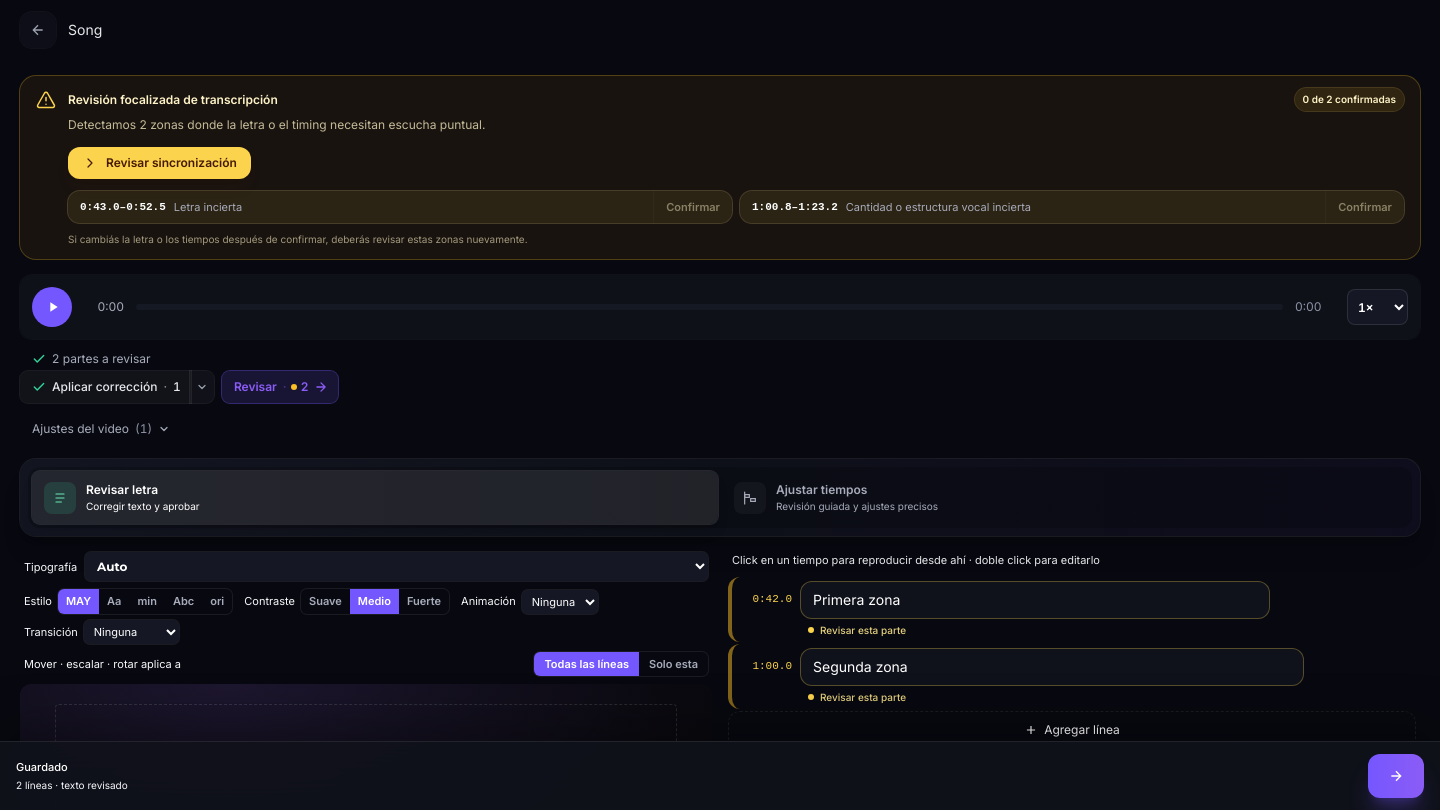
LyricsEditor — revisión focalizada transcription quality v5 › abre Ajustar tiempos en revisión guiada y deja la timeline como opción avanzada
This screenshot has width=1440, height=810.
Click the button "Revisar sincronización" at (159, 162), box [68,146,251,178]
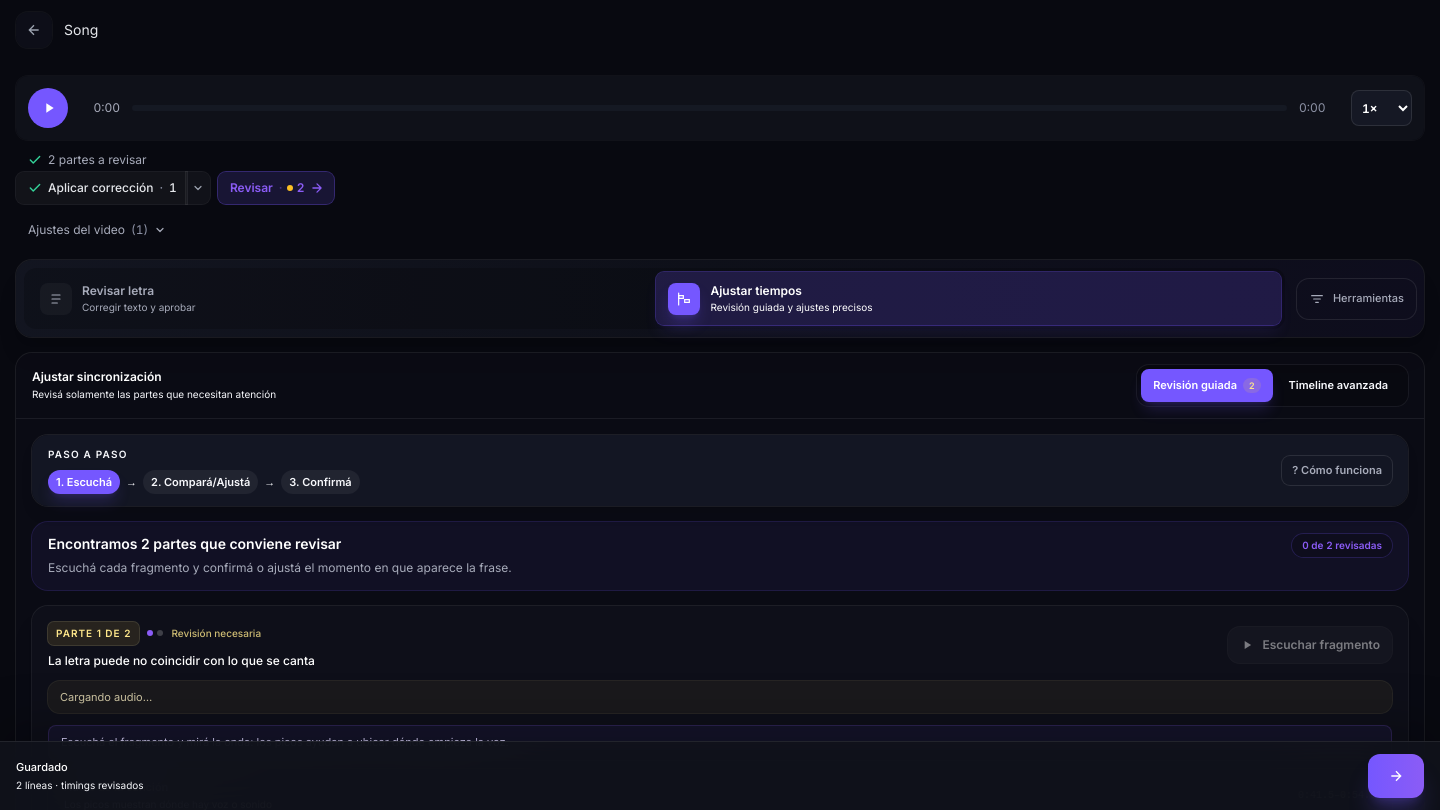
Now the text "Encontramos 2 partes que conviene revisar" is shown, box [48,535,341,552]
Now the text "Audio de la canción" is shown, box [64,780,168,794]
Now the element with test id "quality-review-panel" is gone
Click the tab "Timeline avanzada" at (1338, 385), box [1273,369,1404,402]
(page scrolled)
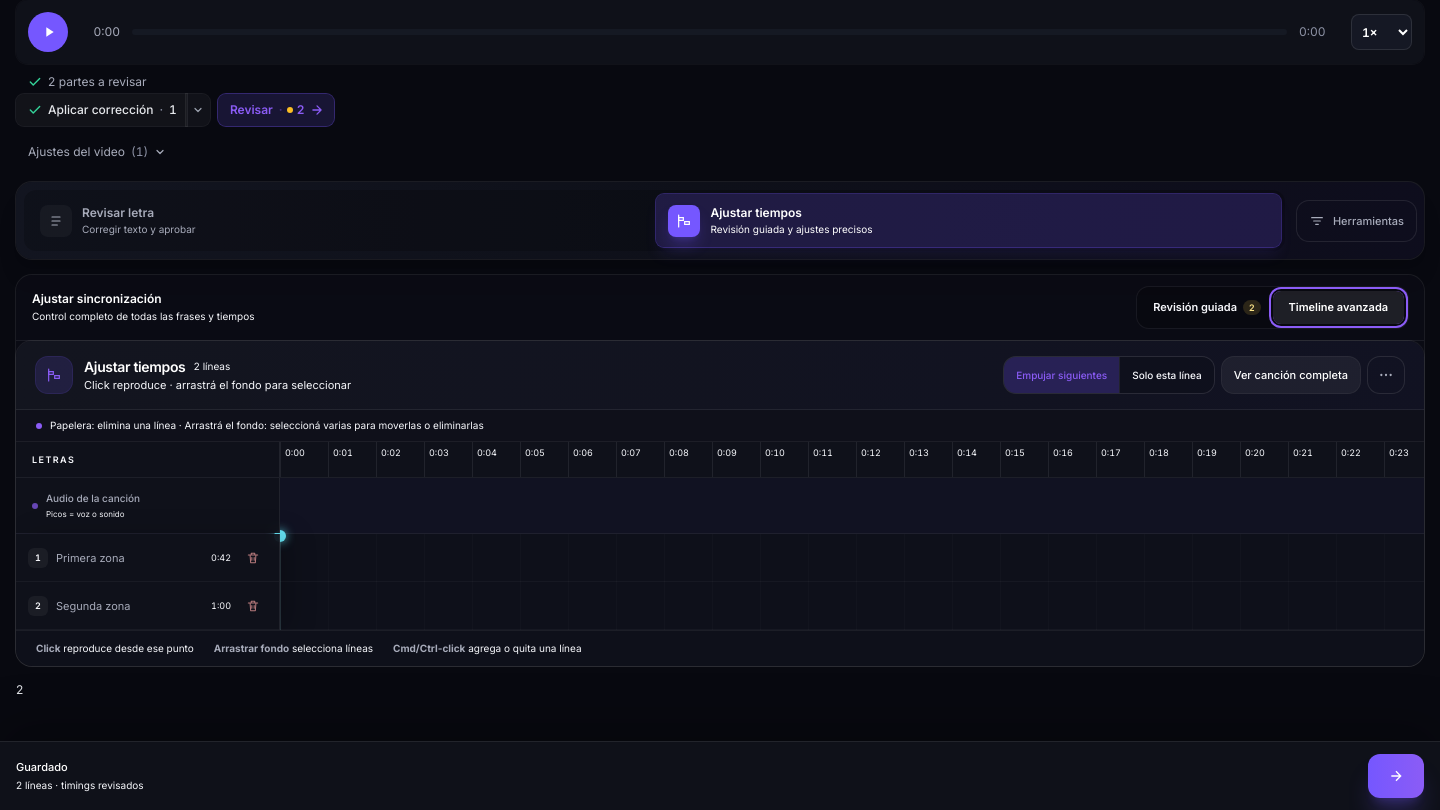
Now the text "Audio de la canción" is shown, box [46,491,140,506]
Now the element with test id "timeline-scroll" is shown, box [16,442,1424,630]
